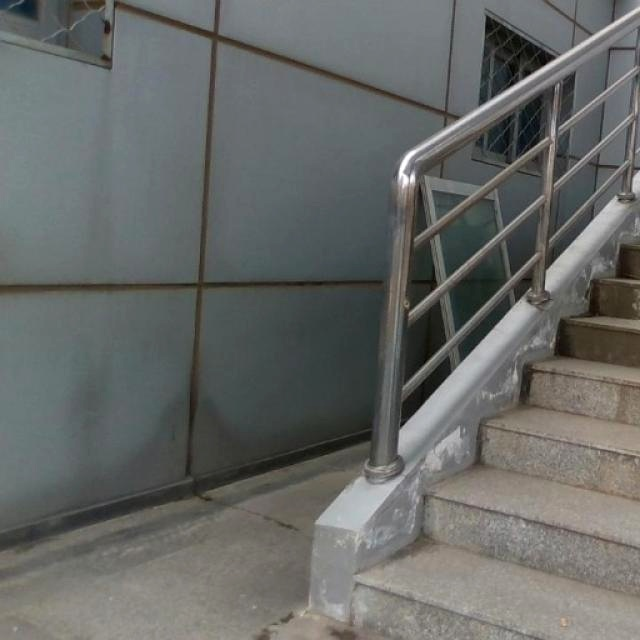stair: (424, 248, 638, 633)
